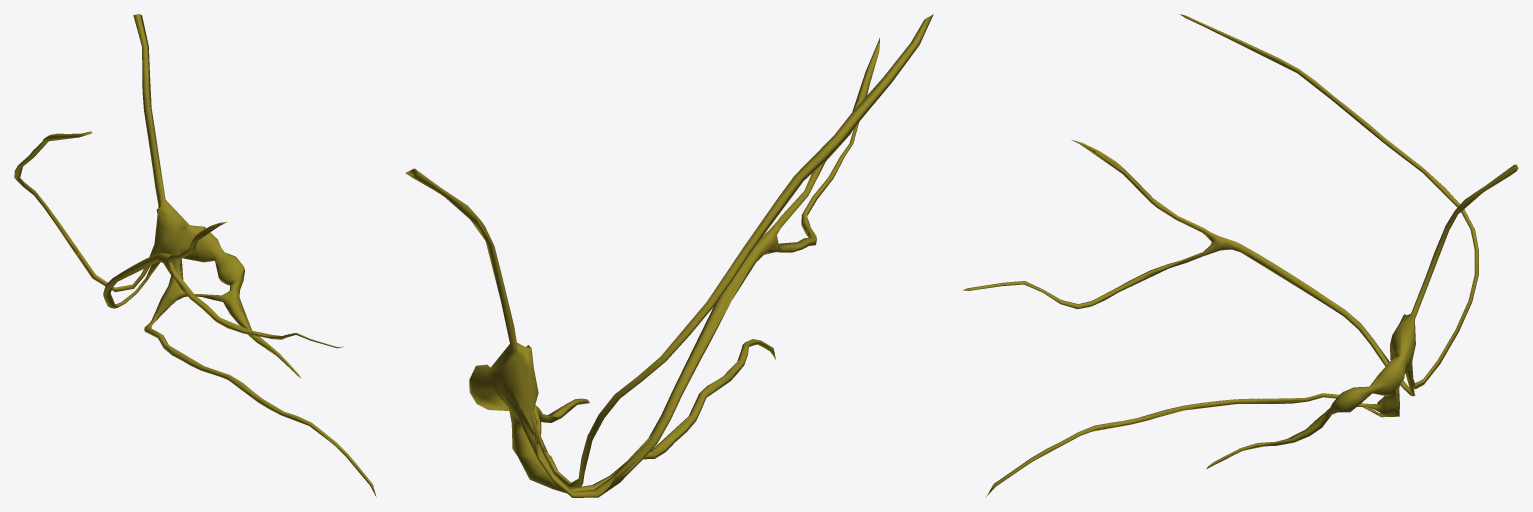
The model's file is R lymphocentrum mandibulare.fbx.
The picture shows the model from 3 angles, left to right: view 1: azimuth 30°, elevation 25°; view 2: azimuth 150°, elevation 25°; view 3: azimuth 270°, elevation 25°; orthographic projection. The views are drawn at different scales.
Parts seen in each view (by area): view 1: R lymphocentrum mandibulare, R lymphocentrum mandibulare low; view 2: R lymphocentrum mandibulare, R lymphocentrum mandibulare low; view 3: R lymphocentrum mandibulare, R lymphocentrum mandibulare low.
Part boxes in pixels (<box>): R lymphocentrum mandibulare: <box>14,45,376,496</box>; R lymphocentrum mandibulare low: <box>16,14,367,482</box>; R lymphocentrum mandibulare: <box>405,14,933,497</box>; R lymphocentrum mandibulare low: <box>413,22,929,496</box>; R lymphocentrum mandibulare: <box>963,14,1518,496</box>; R lymphocentrum mandibulare low: <box>1007,30,1518,478</box>.
Bounding box in the file's own units: 7.71 × 11.11 × 14.74.
